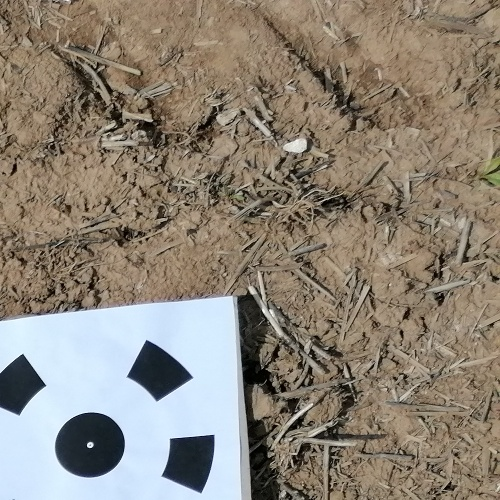beet: (482, 153, 500, 191)
